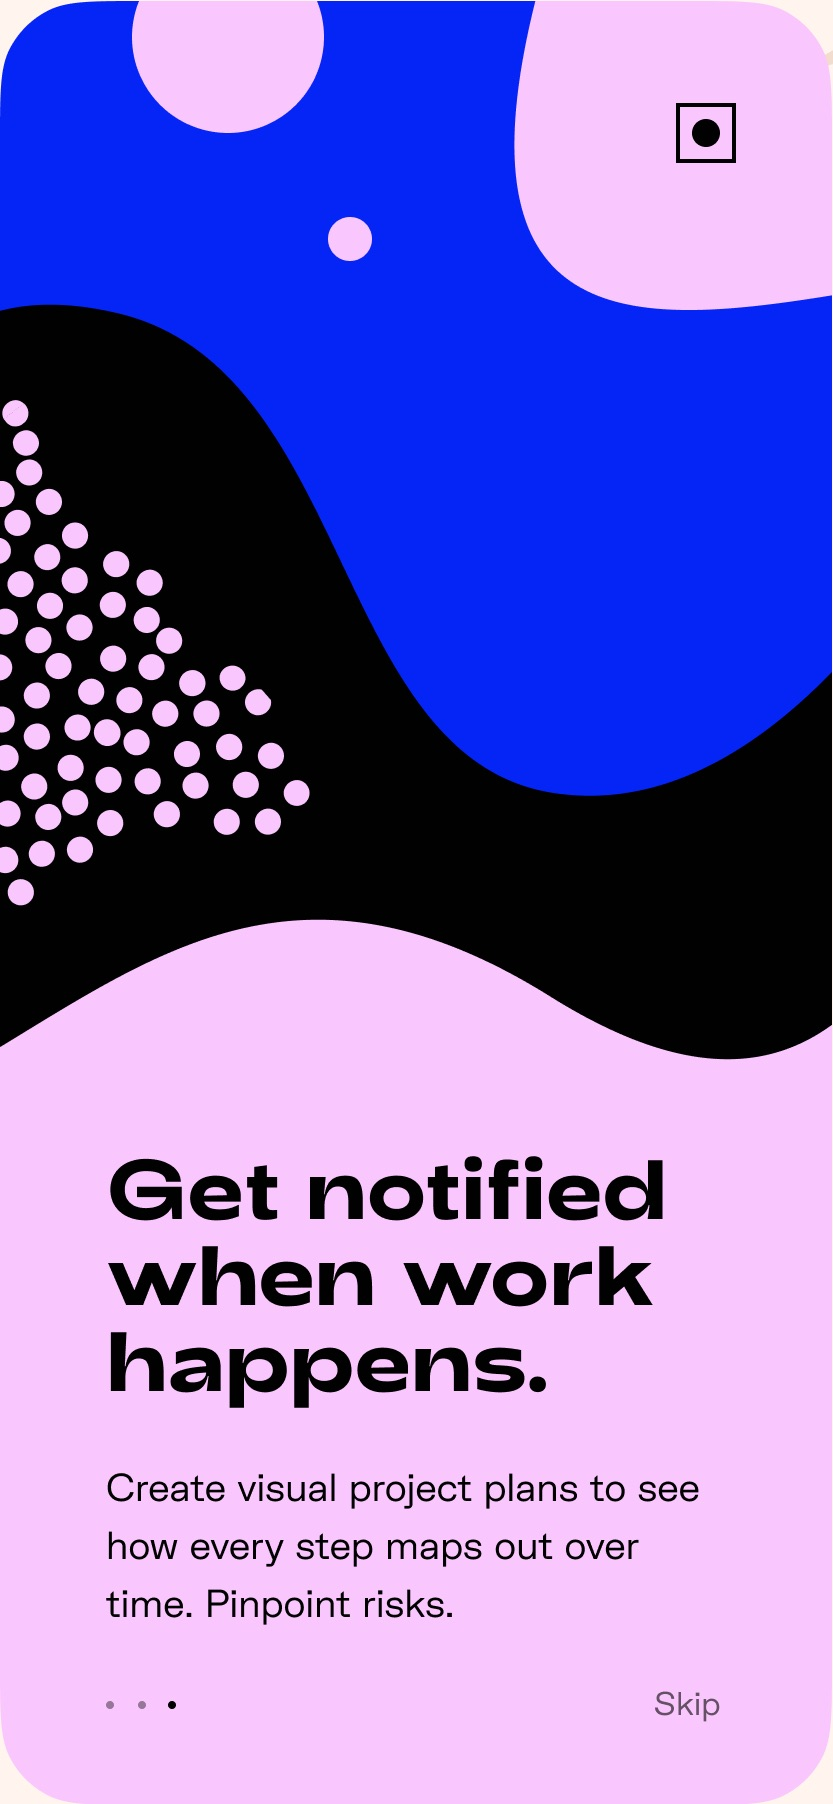BackgroundImage: (3, 3, 833, 1804)
PageIndicator: (106, 1699, 178, 1711)
Text: (108, 1154, 664, 1411), (105, 1472, 700, 1627), (654, 1690, 721, 1723)
